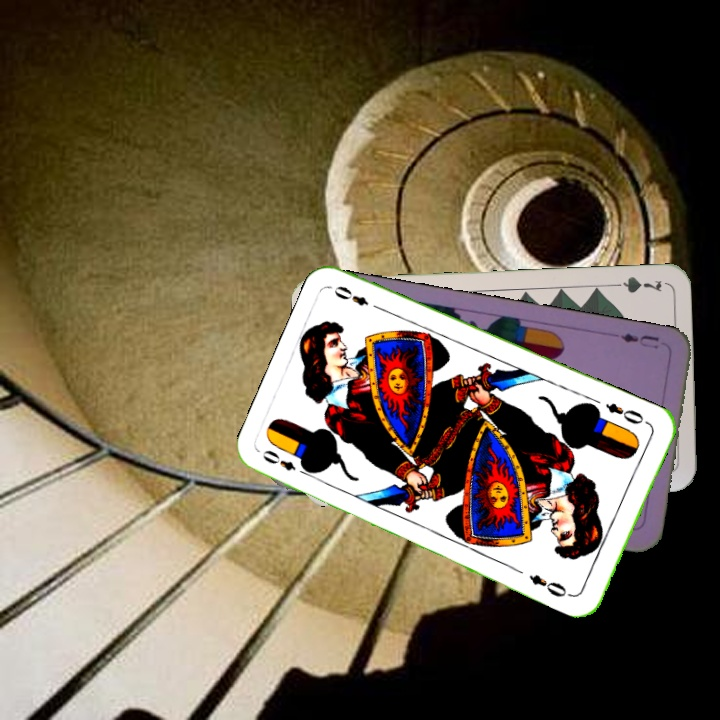EO: (601, 399, 646, 427), (258, 446, 299, 474)
EU: (617, 329, 662, 352)
G7: (605, 273, 665, 296)
